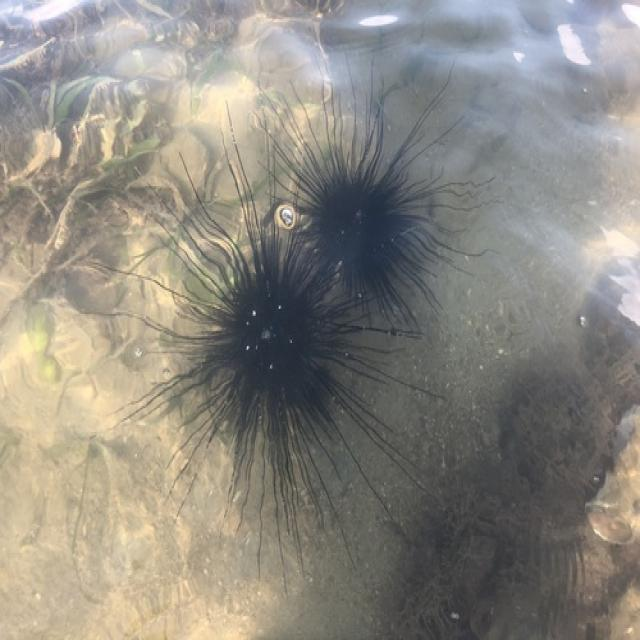Urchin: (78, 121, 444, 563), (286, 60, 478, 324)
